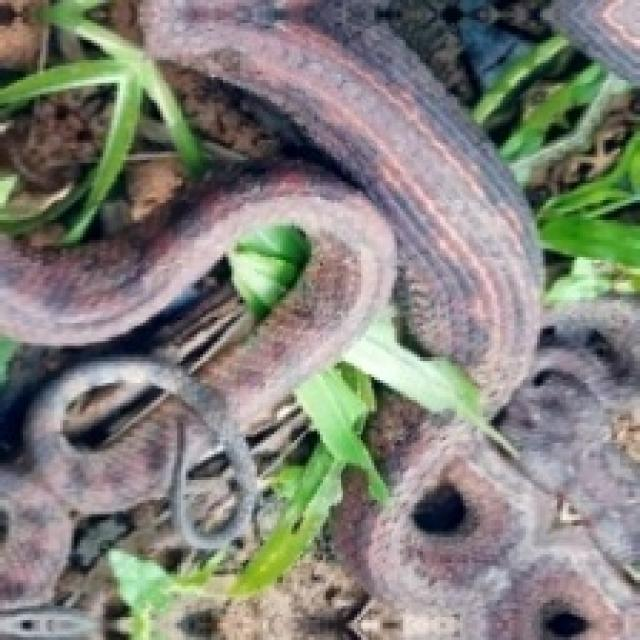philippine pitviper: (0, 0, 540, 411), (0, 0, 540, 409), (334, 394, 637, 637), (0, 420, 177, 606), (206, 294, 351, 423)
